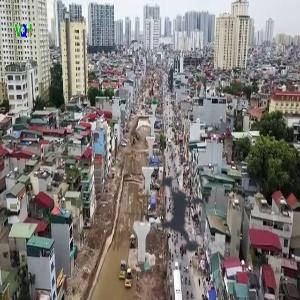drone: (112, 140, 254, 282)
